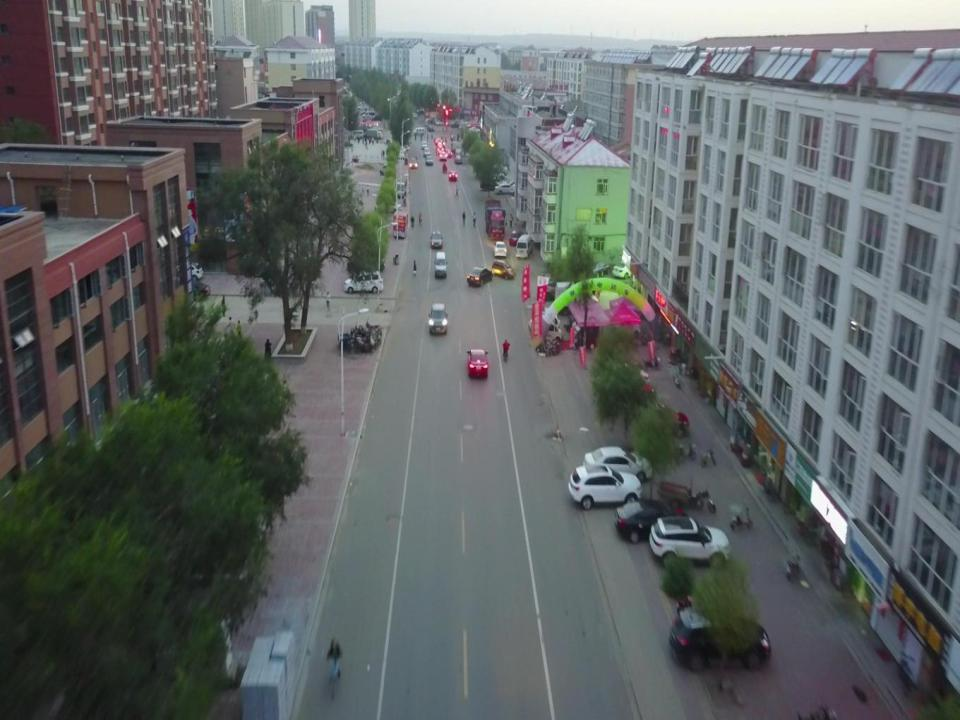car: (614, 500, 689, 544), (583, 446, 652, 484), (639, 404, 689, 439), (602, 363, 650, 391), (612, 381, 656, 405), (540, 275, 576, 300), (169, 280, 210, 301), (346, 254, 386, 273), (632, 271, 665, 293), (534, 320, 564, 344), (528, 312, 560, 334), (466, 349, 488, 377), (612, 259, 642, 279), (467, 266, 493, 287), (492, 259, 516, 280), (582, 260, 610, 278), (374, 197, 401, 214), (509, 179, 530, 195), (509, 229, 524, 246), (430, 229, 443, 248), (485, 168, 505, 180), (494, 182, 513, 194), (488, 164, 508, 175), (409, 158, 418, 169), (449, 170, 457, 182), (468, 127, 480, 134), (425, 156, 433, 166), (454, 155, 462, 164), (443, 149, 452, 157), (359, 118, 371, 124), (451, 121, 461, 128), (361, 110, 371, 117), (423, 148, 430, 157), (421, 141, 428, 150), (437, 142, 444, 151), (435, 137, 442, 146), (436, 119, 446, 125), (352, 101, 363, 106), (357, 105, 367, 110), (427, 125, 434, 132), (455, 149, 461, 157)
truck: (485, 199, 507, 241), (394, 175, 406, 198), (366, 128, 384, 139)
van: (670, 606, 770, 672), (648, 516, 730, 570), (568, 464, 642, 511), (554, 282, 599, 316), (344, 271, 384, 294), (168, 262, 204, 282), (428, 303, 448, 334), (516, 234, 534, 258), (434, 251, 448, 278), (493, 241, 507, 258), (380, 163, 394, 175), (362, 111, 375, 120), (350, 130, 364, 138), (414, 127, 425, 136), (436, 146, 444, 155), (371, 115, 383, 121), (440, 151, 447, 161)
